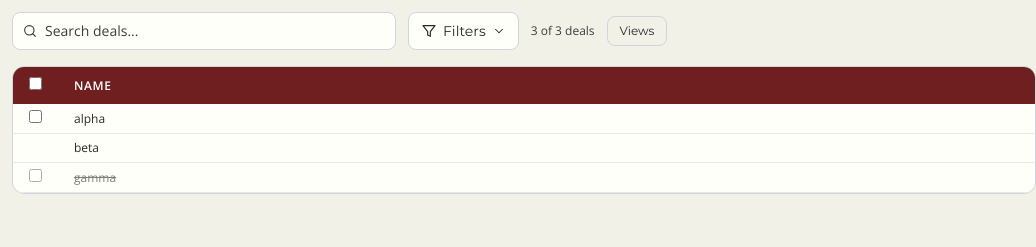
selection › gives an unselectable row no checkbox at all
This screenshot has width=1036, height=247.
Click the checkbox named "Select row" next to "alpha". click: (36, 116)
box: [29,110,42,123]
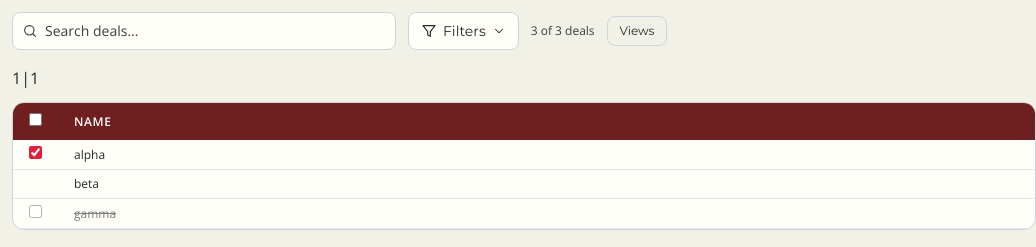
Click the checkbox named "Select row" next to "gamma". click: (36, 212)
box: [29,205,42,218]
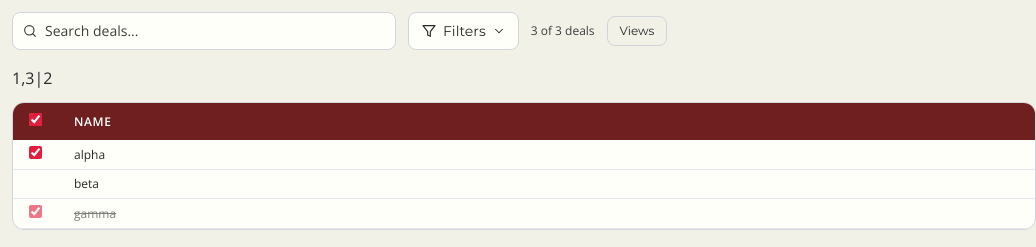
Check: the text with test id "bulk" reads "1,3|2", box [12,67,34,89]
